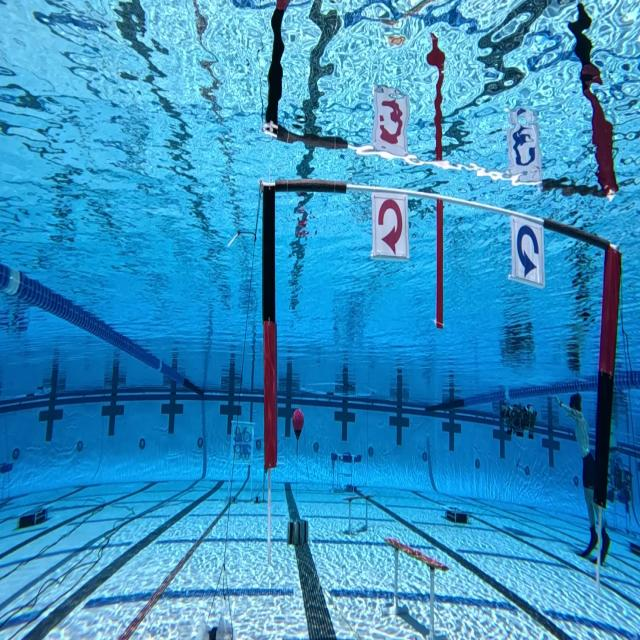blue_side: (507, 209, 552, 293)
red_side: (369, 183, 413, 269)
